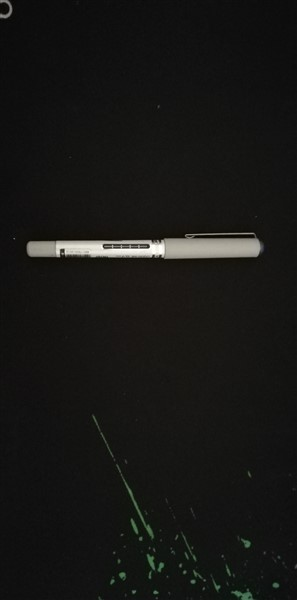pilot kalem: (20, 228, 270, 270)
